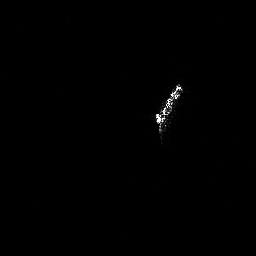ship: (151, 79, 186, 142)
